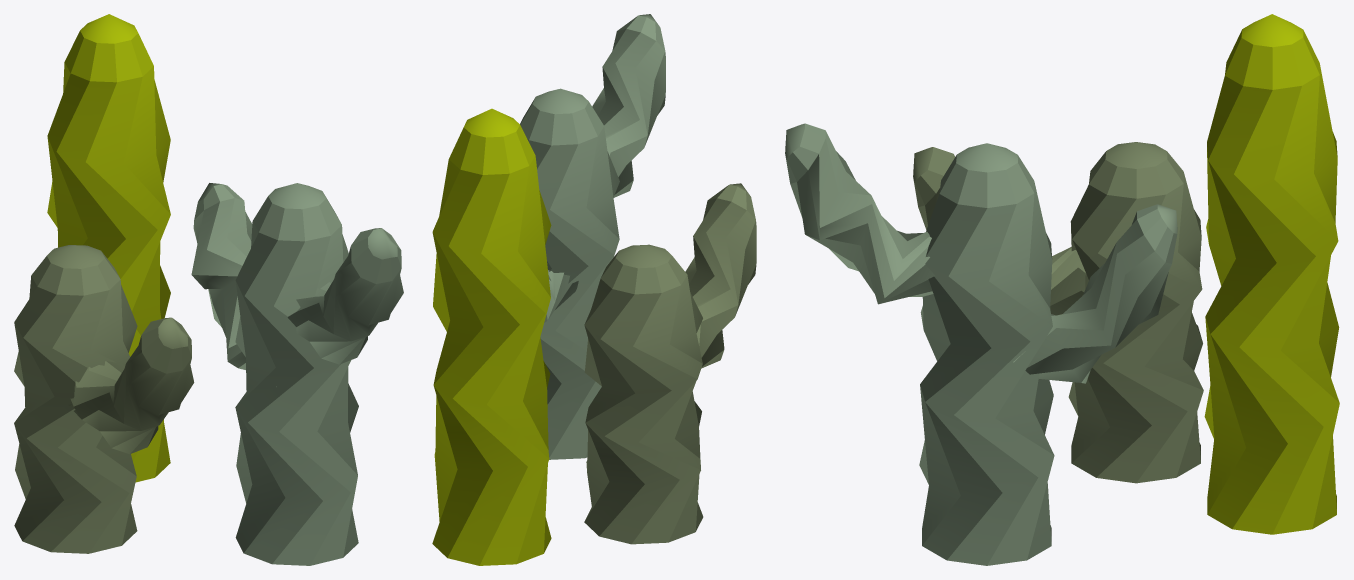
Rendered from cactusCluster.fbx.
The picture shows the model from 3 angles, left to right: view 1: azimuth 30°, elevation 25°; view 2: azimuth 150°, elevation 25°; view 3: azimuth 270°, elevation 25°; orthographic projection. The views are drawn at different scales.
Parts seen in each view (by area): view 1: cactus3, cactus2, cactus1, cactusArm, cactusArm1, cactusArm2; view 2: cactus1, cactus2, cactus3, cactusArm, cactusArm1, cactusArm2; view 3: cactus1, cactus3, cactus2, cactusArm1, cactusArm2, cactusArm.
Boxes of the visible parts, x1,y1,x2,y2 form: cactus3: (235,183,358,565); cactus2: (14,245,137,553); cactus1: (47,14,170,482); cactusArm: (68,317,194,454); cactusArm1: (287,228,403,364); cactusArm2: (191,183,276,386); cactus1: (432,108,551,565); cactus2: (584,244,703,544); cactus3: (520,88,619,459); cactusArm: (685,183,756,368); cactusArm1: (592,14,665,197); cactusArm2: (544,270,578,322); cactus1: (1204,14,1339,534); cactus3: (919,143,1054,565); cactus2: (1068,142,1203,483); cactusArm1: (785,123,934,304); cactusArm2: (1013,204,1177,383); cactusArm: (913,147,1086,315).
Bounding box in the file's own units: 6.21 × 10.15 × 10.37.
